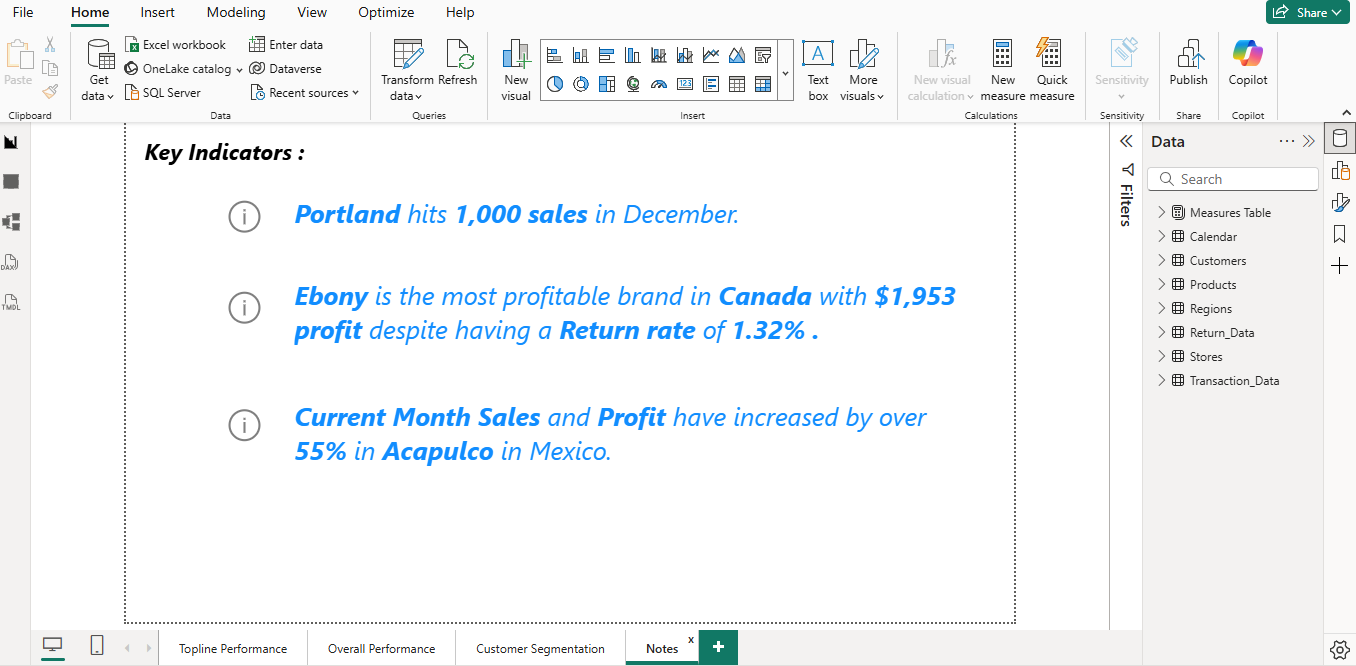

The dashboard page shown, as its layout file describes it:
{"tool":"powerbi","page":{"name":"Notes","canvas":[1280,720],"ordinal":3},"visuals":[{"type":"textbox","box":[237.6,100.8,967.7,95],"z":0},{"type":"actionButton","box":[141.1,100.8,59,72],"z":1000},{"type":"textbox","box":[237.6,218.9,967.7,123.8],"z":2000},{"type":"actionButton","box":[141.1,218.9,59,96.5],"z":3000},{"type":"textbox","box":[237.6,393.1,967.7,131],"z":4000},{"type":"actionButton","box":[141.1,393.1,59,86.4],"z":5000},{"type":"textbox","box":[21.6,14.4,275,69.1],"z":5001}]}

Visuals, with their boxes on the page's 1280x720 design canvas (x1, y1, x2, y2). These are canvas units, not pixel positions in the 1356x666 screenshot, which may show the page scaled, cropped or inside an application window:
textbox: [238,101,1205,196]
actionButton: [141,101,200,173]
textbox: [238,219,1205,343]
actionButton: [141,219,200,315]
textbox: [238,393,1205,524]
actionButton: [141,393,200,480]
textbox: [22,14,297,84]
